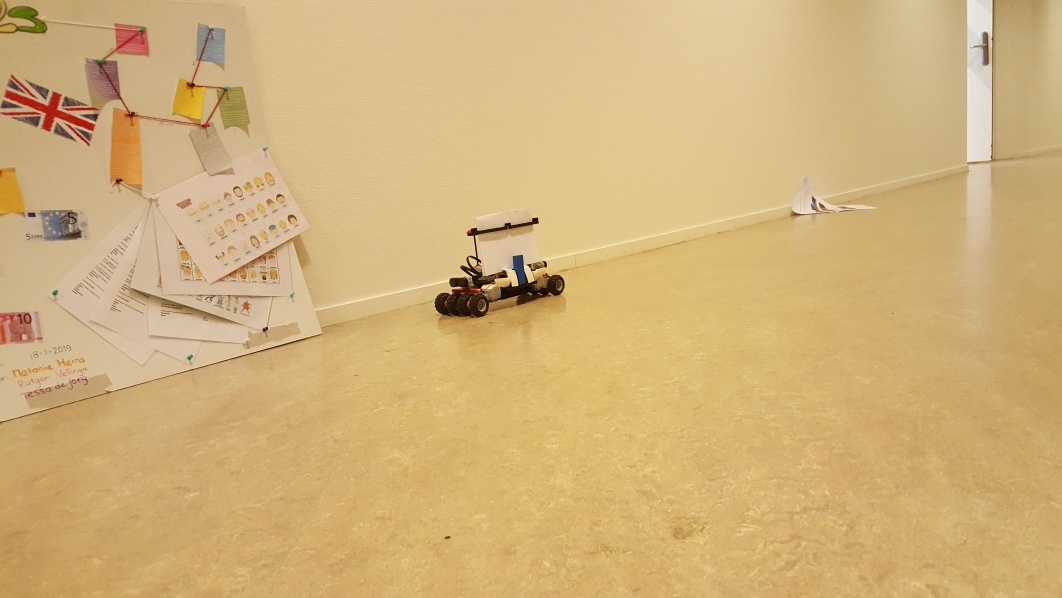beam: (512, 253, 526, 286)
